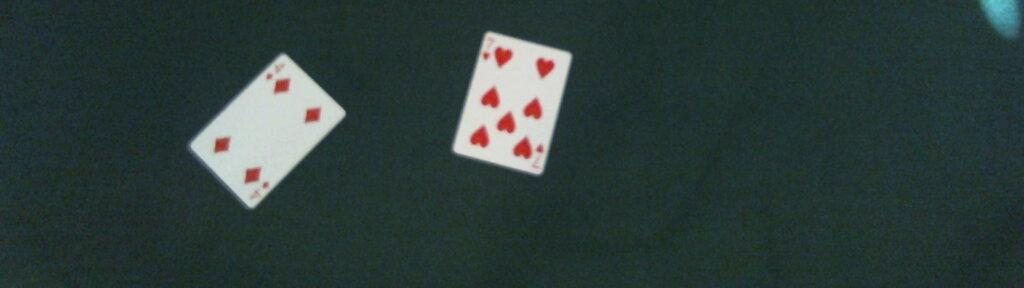four: (185, 52, 347, 210)
seven: (450, 29, 574, 175)
